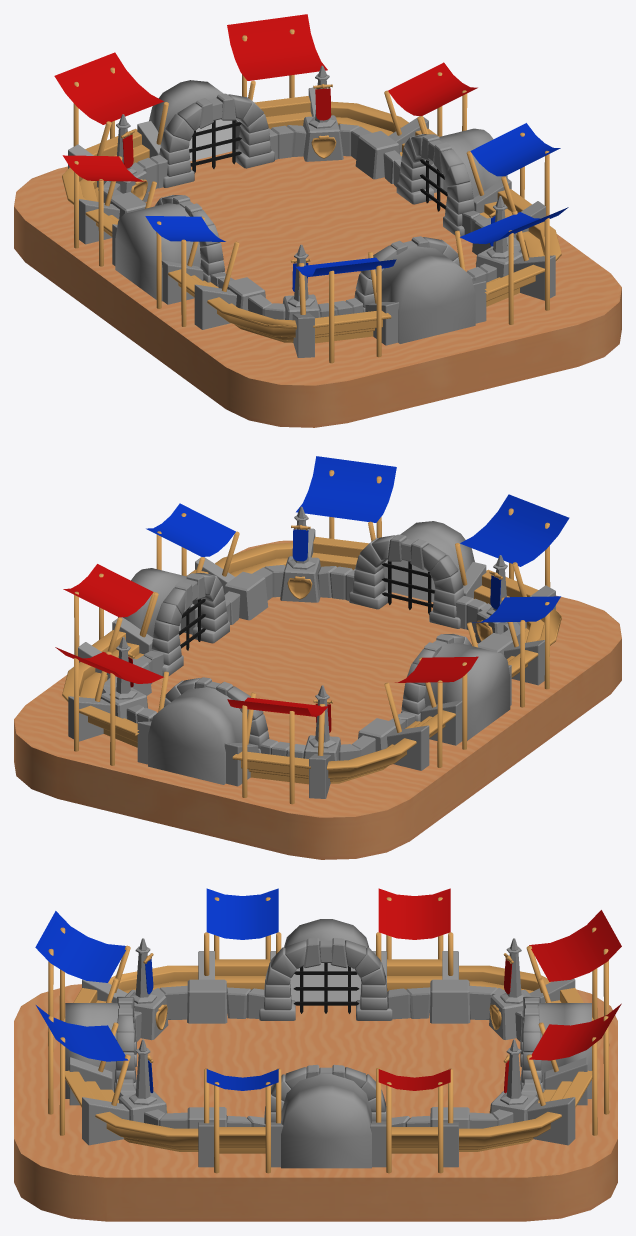
Rendered from ARENA (1).fbx.
The picture shows the model from 3 angles, top to bottom: view 1: azimuth 30°, elevation 25°; view 2: azimuth 150°, elevation 25°; view 3: azimuth 270°, elevation 25°; orthographic projection. The views are drawn at different scales.
Visible parts, largest first — view 1: Cube.181, Plane.005, Plane.003, Cube.103, Cylinder.005, Plane.010, Cube.088, Cube.062; view 2: Cube.181, Plane.005, Plane.010, Cube.103, Cylinder.005, Plane.003, Cube.088, Cube.111; view 3: Cube.181, Plane.005, Cube.103, Cylinder.005, Plane.003, Plane.010, Cube.088.
Boxes of the visible parts, x1,y1,x2,y2 form: Cube.181: (14,151,621,427); Plane.005: (68,65,555,357); Plane.003: (54,14,477,181); Cube.103: (62,96,561,343); Cylinder.005: (73,29,549,363); Plane.010: (145,123,568,276); Cube.088: (189,120,447,211); Cube.062: (122,88,331,168); Cube.181: (14,540,621,859); Plane.005: (68,506,555,798); Plane.010: (146,456,569,622); Cube.103: (62,536,561,784); Cylinder.005: (74,470,550,804); Plane.003: (55,564,478,716); Cube.088: (179,561,434,650); Cube.111: (292,529,501,609); Cube.181: (14,984,617,1221); Plane.005: (65,919,591,1168); Cube.103: (63,959,593,1153); Cylinder.005: (48,897,609,1173); Plane.003: (378,888,621,1090); Plane.010: (35,888,278,1090); Cube.088: (293,963,359,1013).
Bounding box in the file's own units: 309 × 110 × 405.
